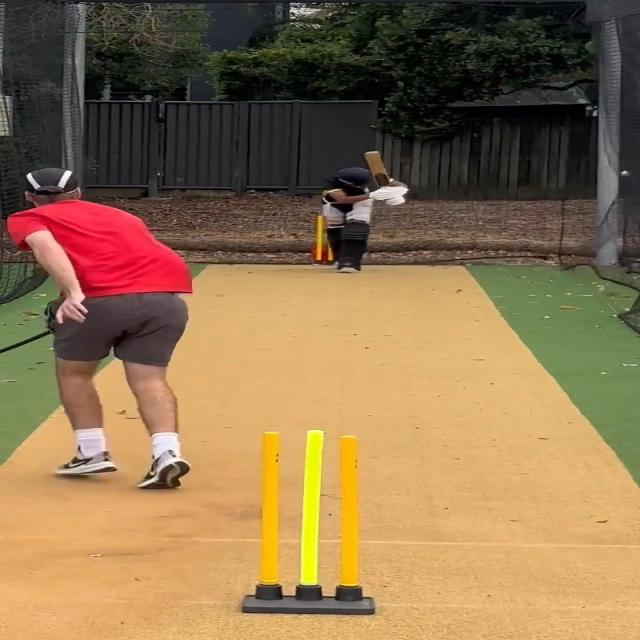stump: (240, 424, 372, 616)
